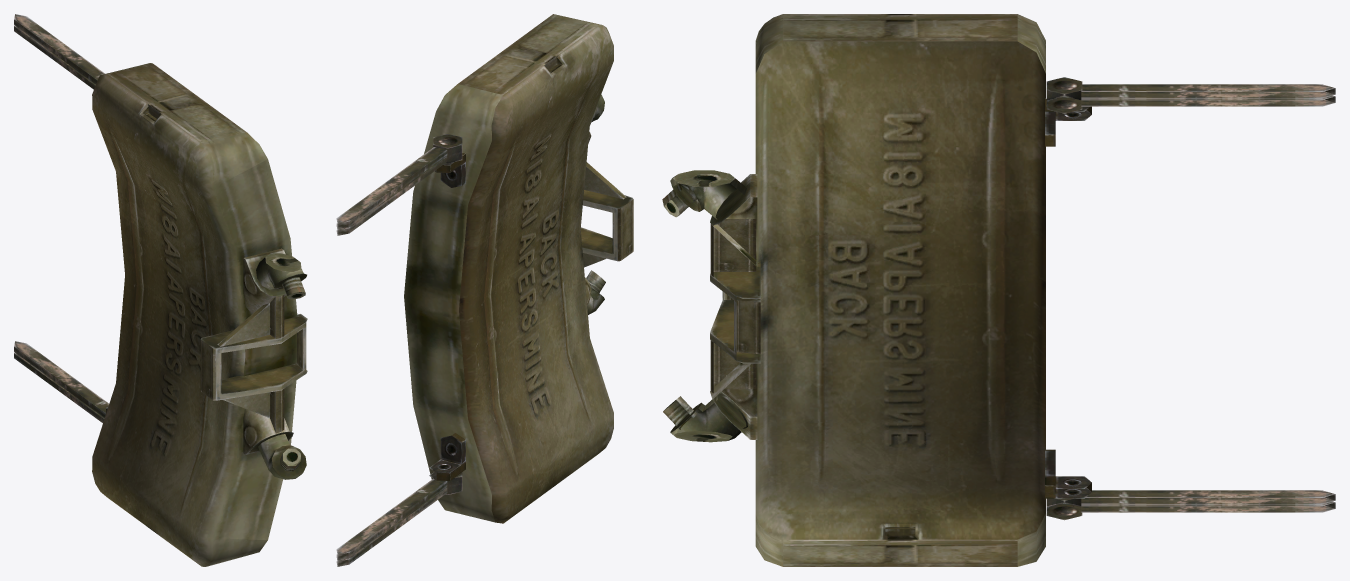
Rendered from viewmodel_claymore_LOD0.obj.
The picture shows the model from 3 angles, left to right: view 1: azimuth 30°, elevation 25°; view 2: azimuth 150°, elevation 25°; view 3: azimuth 270°, elevation 25°; orthographic projection. The views are drawn at different scales.
Visible parts, largest first — view 1: mtl_weapon_claymore; view 2: mtl_weapon_claymore; view 3: mtl_weapon_claymore.
Part boxes in pixels (<box>): mtl_weapon_claymore: <box>14,14,307,566</box>; mtl_weapon_claymore: <box>336,14,633,566</box>; mtl_weapon_claymore: <box>662,14,1335,566</box>.
Size of the model in its own units: 7.02 by 28.05 by 32.56.
